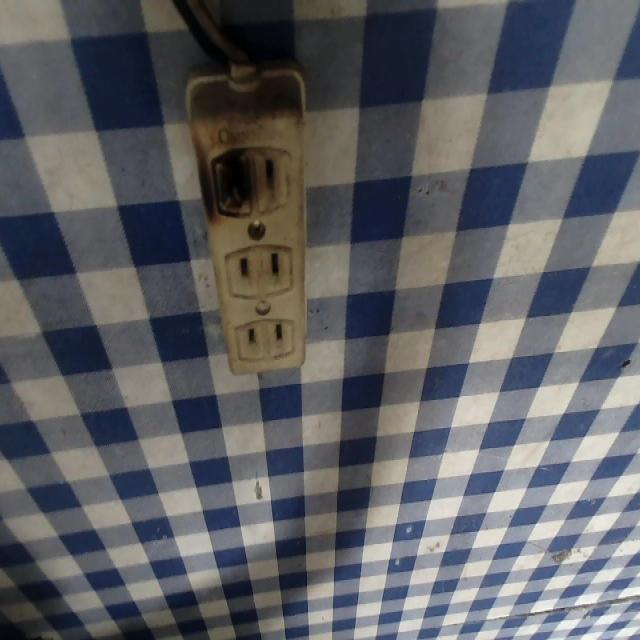-: (194, 141, 258, 224)
